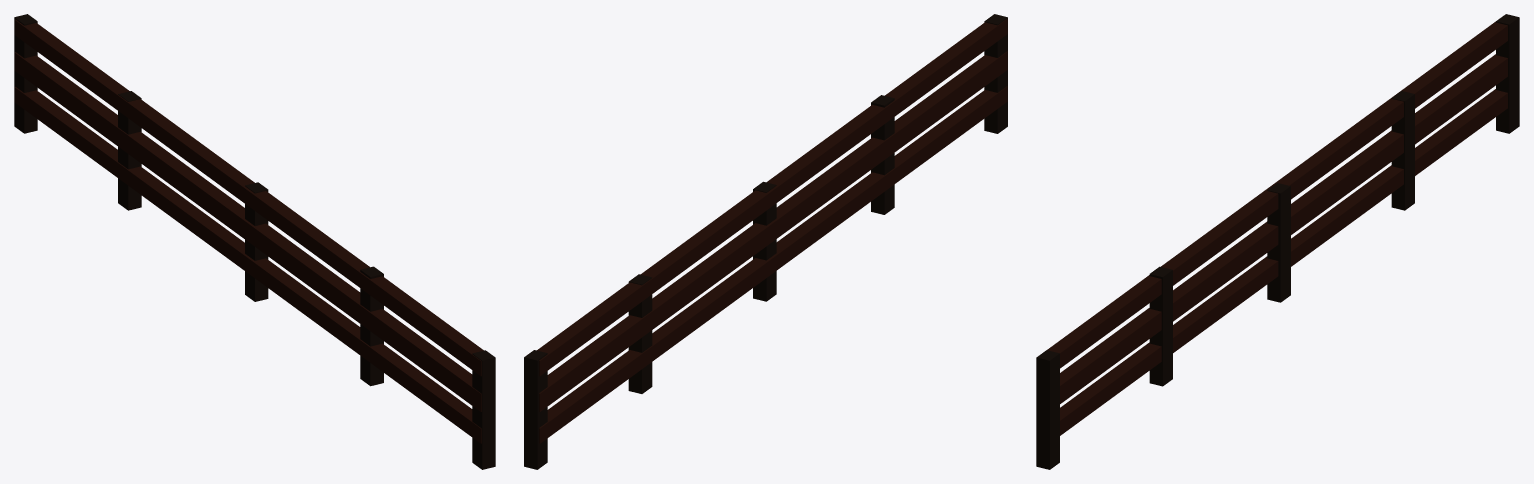
The model's file is hek.obj.
3 renders of one model, left to right at view 1: azimuth 30°, elevation 25°; view 2: azimuth 150°, elevation 25°; view 3: azimuth 330°, elevation 25°, orthographic.
Parts seen in each view (by area): view 1: Hek pCube1, pasted__pCube1 Hek, Hek pasted__pasted__pCube1, Hek pasted__pasted__pasted__pCube1, Hek pasted__pasted__pasted__pasted__pCube1, Hek pasted__pasted__pasted__pCube3, Hek pasted__pasted__pasted__pCube2, Hek pasted__pasted__pCube2; view 2: Hek pCube1, pasted__pCube1 Hek, Hek pasted__pasted__pCube1, Hek pasted__pasted__pasted__pCube2, Hek pasted__pasted__pasted__pCube1, Hek pasted__pasted__pasted__pasted__pCube1, Hek pasted__pasted__pasted__pCube3, Hek pasted__pasted__pCube2; view 3: Hek pCube1, pasted__pCube1 Hek, Hek pasted__pasted__pCube1, Hek pasted__pasted__pasted__pCube1, Hek pasted__pasted__pCube2, Hek pasted__pasted__pasted__pCube2, Hek pasted__pasted__pasted__pCube3, Hek pasted__pasted__pasted__pasted__pCube1.
Boxes of the visible parts, x1,y1,x2,y2 form: Hek pCube1: (14,52,481,411); pasted__pCube1 Hek: (14,19,483,376); Hek pasted__pasted__pCube1: (14,87,481,443); Hek pasted__pasted__pasted__pCube1: (472,350,495,469); Hek pasted__pasted__pasted__pasted__pCube1: (118,91,141,210); Hek pasted__pasted__pasted__pCube3: (360,266,383,386); Hek pasted__pasted__pasted__pCube2: (14,14,37,133); Hek pasted__pasted__pCube2: (245,182,268,301); Hek pCube1: (539,51,1007,411); pasted__pCube1 Hek: (537,18,1007,375); Hek pasted__pasted__pCube1: (539,86,1007,443); Hek pasted__pasted__pasted__pCube2: (524,350,547,469); Hek pasted__pasted__pasted__pCube1: (984,14,1007,133); Hek pasted__pasted__pasted__pasted__pCube1: (628,274,652,393); Hek pasted__pasted__pasted__pCube3: (871,95,894,214); Hek pasted__pasted__pCube2: (753,181,776,301); Hek pCube1: (1060,54,1507,403); pasted__pCube1 Hek: (1047,18,1507,368); Hek pasted__pasted__pCube1: (1060,89,1507,435); Hek pasted__pasted__pasted__pCube1: (1036,350,1059,469); Hek pasted__pasted__pCube2: (1267,183,1290,302); Hek pasted__pasted__pasted__pCube2: (1496,14,1519,133); Hek pasted__pasted__pasted__pCube3: (1149,266,1172,386); Hek pasted__pasted__pasted__pasted__pCube1: (1391,91,1414,210).
Size of the model in its own units: 0.428 by 2.88 by 22.1.
